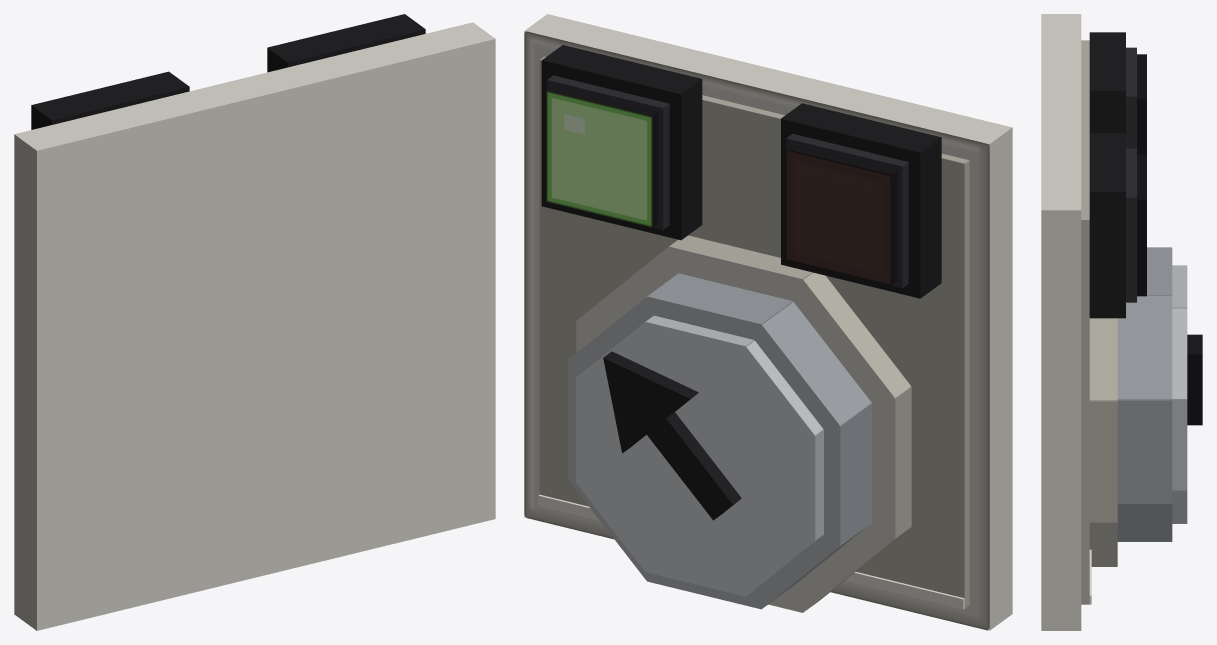
Rendered from knob_switch_open.obj.
3 renders of one model, left to right at view 1: azimuth 30°, elevation 25°; view 2: azimuth 150°, elevation 25°; view 3: azimuth 270°, elevation 25°, orthographic. The views are drawn at different scales.
Visible parts, largest first — view 1: Panel, LampRed, LampGreen; view 2: Panel, Knob, LampGreen, LampRed; view 3: Panel, Knob, LampGreen, LampRed.
Part boxes in pixels (bbox=[...]): Panel: bbox=[14, 22, 495, 630]; LampRed: bbox=[31, 71, 189, 129]; LampGreen: bbox=[267, 14, 425, 72]; Panel: bbox=[524, 14, 1012, 630]; Knob: bbox=[568, 235, 911, 612]; LampGreen: bbox=[541, 45, 702, 240]; LampRed: bbox=[781, 103, 941, 298]; Panel: bbox=[1041, 14, 1091, 630]; Knob: bbox=[1089, 247, 1202, 566]; LampGreen: bbox=[1089, 133, 1146, 318]; LampRed: bbox=[1089, 32, 1146, 154].
Bounding box in the file's own units: 0.875 × 0.8875 × 0.3038.
Materials: 1 (1 with a texture image).
